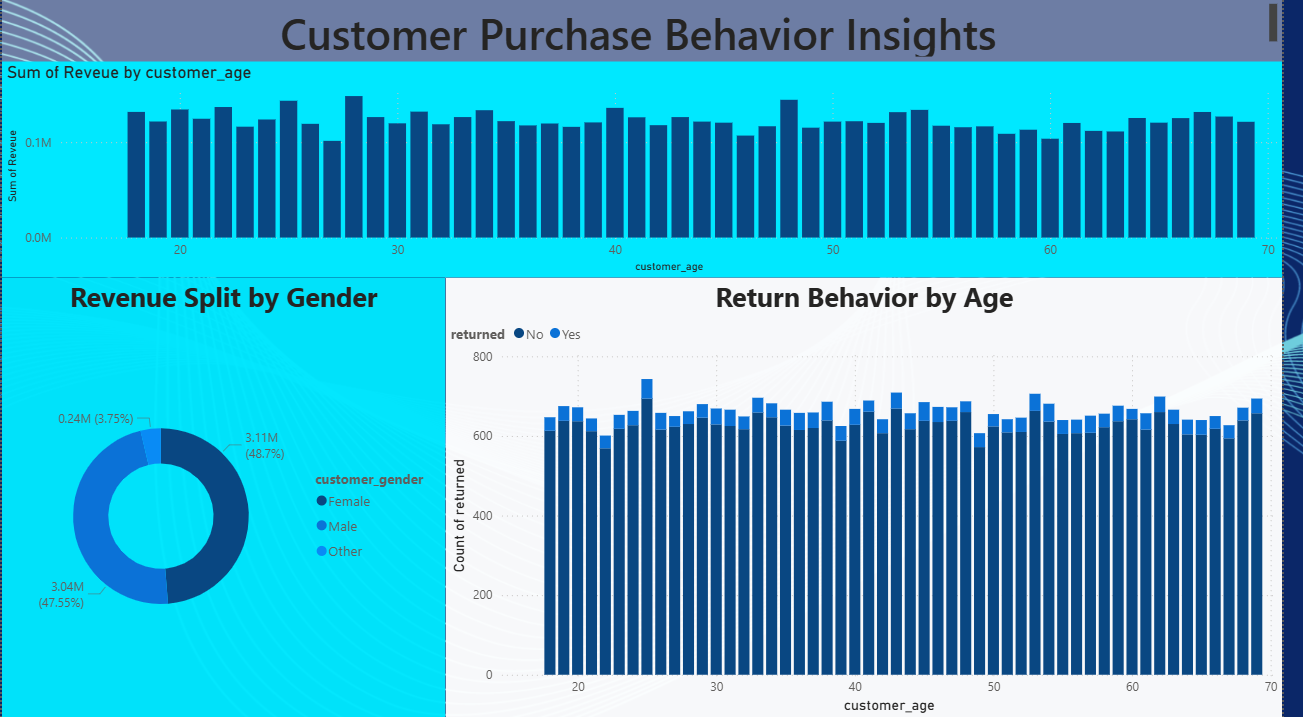

The page's visual inventory and layout, read from the dashboard file:
{"tool":"powerbi","page":{"name":"PURCHASE BEHAVIOUR","canvas":[1280,720],"ordinal":3},"visuals":[{"type":"textbox","box":[0,0,1280.2,63],"z":0},{"type":"clusteredColumnChart","fields":{"Category":["ecommerce_sales_34500.customer_age"],"Y":["Sum(ecommerce_sales_34500.Reveue)"]},"box":[0,63,1280.2,216],"z":1000},{"type":"donutChart","title":"Revenue Split by Gender","fields":{"Category":["ecommerce_sales_34500.customer_gender"],"Y":["Sum(ecommerce_sales_34500.Reveue)"]},"box":[0,279,443.2,442],"z":2000},{"type":"columnChart","title":"Return Behavior by Age","fields":{"Category":["ecommerce_sales_34500.customer_age"],"Y":["CountNonNull(ecommerce_sales_34500.returned)"],"Series":["ecommerce_sales_34500.returned"]},"box":[443.2,279,837,440.7],"z":3000}]}

Visuals, with their boxes in screenshot pixels (x1, y1, x2, y2), scaled from the page's 1280x720 canvas onto the 1303x717 screenshot:
textbox: crop(0, 0, 1302, 63)
clusteredColumnChart - ecommerce_sales_34500.customer_age x Sum(ecommerce_sales_34500.Reveue): crop(0, 63, 1302, 278)
"Revenue Split by Gender" donutChart: crop(0, 278, 451, 716)
"Return Behavior by Age" columnChart: crop(451, 278, 1302, 716)
